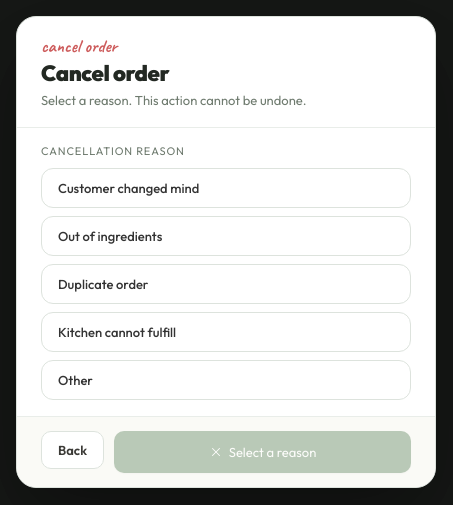
Test: CancelDialog › ACT-03: cancel order with required reason › selecting a reason enables the confirm button
Click the first reason button (Customer changed mind)
Click the button "Customer changed mind": (129,188) x1=41 y1=168 x2=411 y2=208
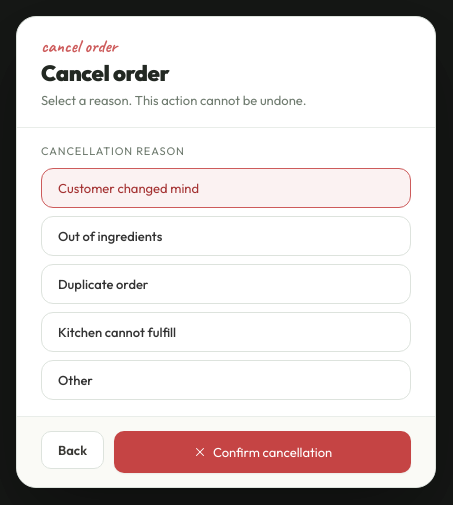
Result: the button "Confirm cancellation" is enabled at x1=114 y1=431 x2=411 y2=473
